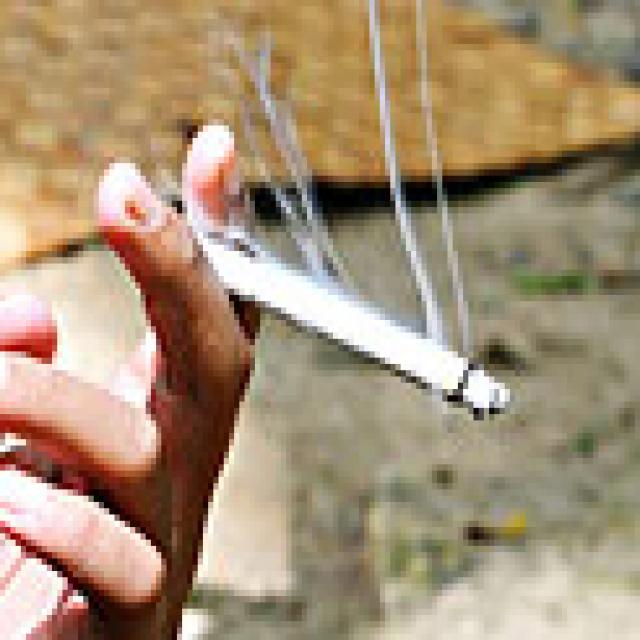smoking: (141, 225, 513, 426)
